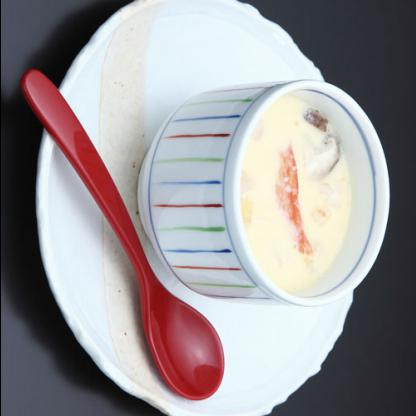Kaithoon: (210, 87, 360, 300)
